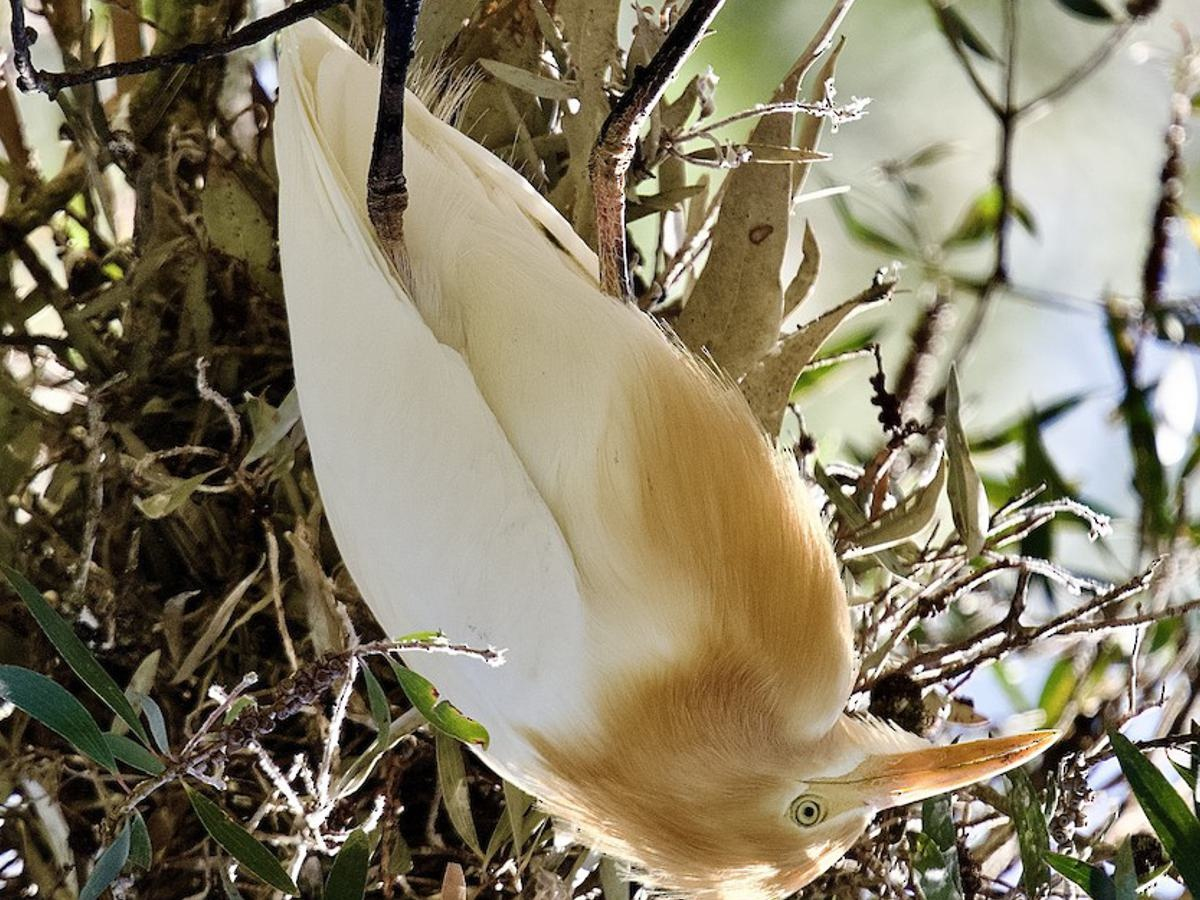egret: (219, 30, 1080, 887)
